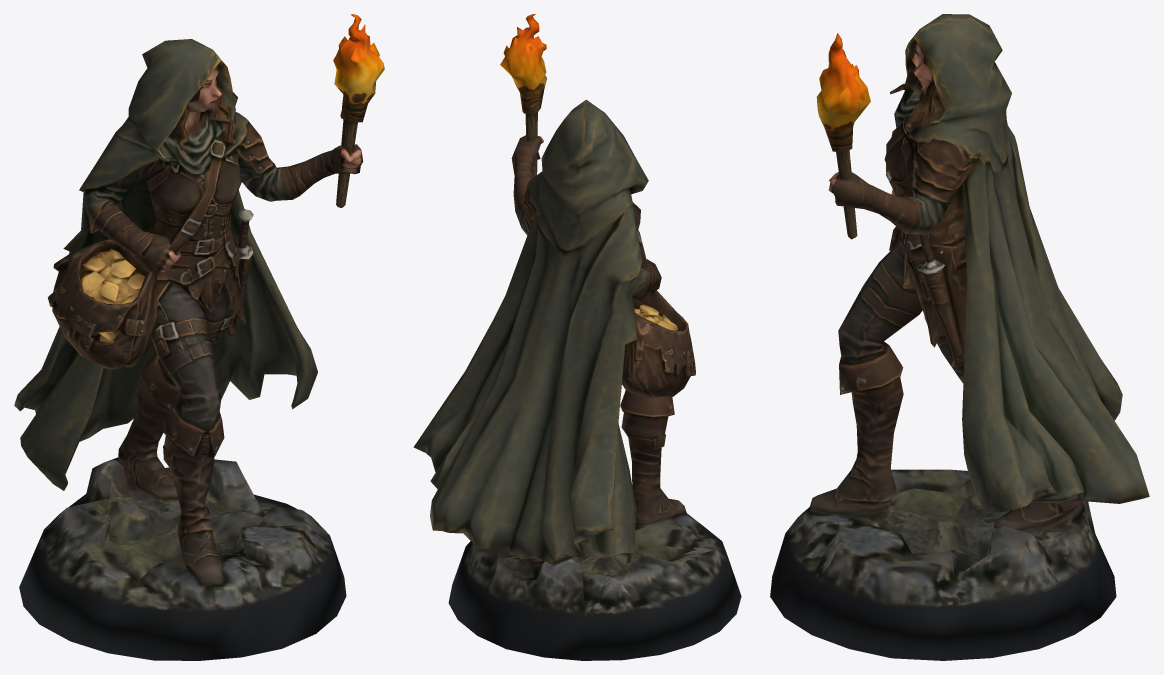
Rendered from hero1.glb.
The picture shows the model from 3 angles, left to right: view 1: azimuth 30°, elevation 25°; view 2: azimuth 150°, elevation 25°; view 3: azimuth 270°, elevation 25°; orthographic projection. The views are drawn at different scales.
Parts seen in each view (by area): view 1: geometry_0; view 2: geometry_0; view 3: geometry_0.
Part boxes in pixels (x1,y1,x2,y2): geometry_0: [14, 14, 384, 660]; geometry_0: [413, 14, 741, 660]; geometry_0: [770, 14, 1149, 660].
Bounding box in the file's own units: 0.5249 × 0.9536 × 0.5332.
1 material, 1 textured.
